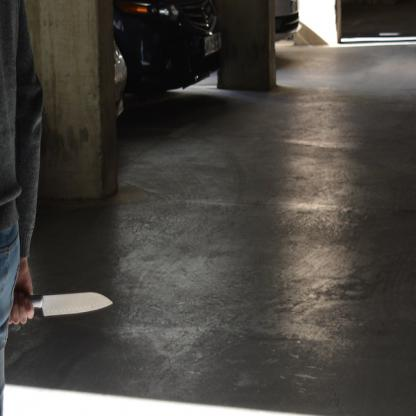knife: (20, 282, 118, 323)
